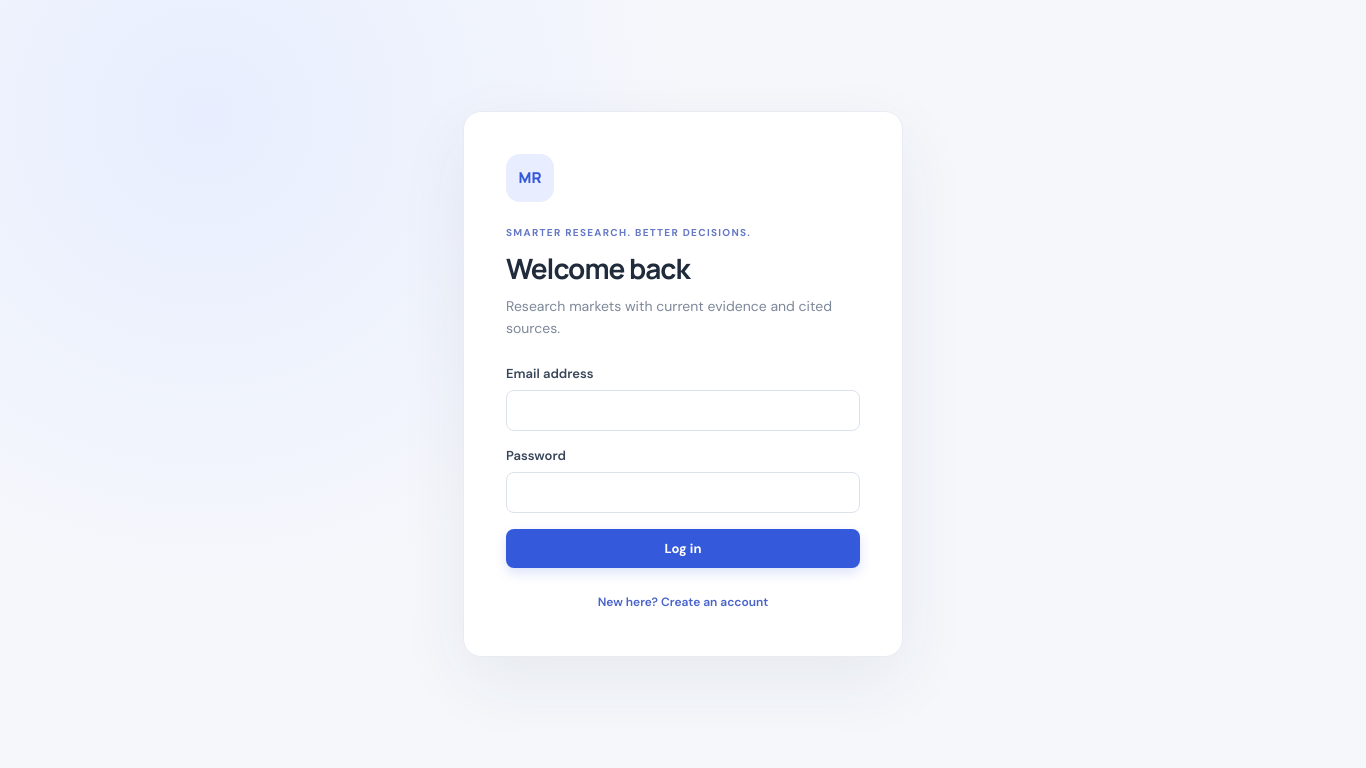
Test: authentication › submits login credentials and opens the dashboard
The image size is (1366, 768).
Expected: the heading "Welcome back" is shown, [506,249,690,287]
Type "test@example.com" into the field labelled "Email address" at (683, 411), box [506,390,860,431]
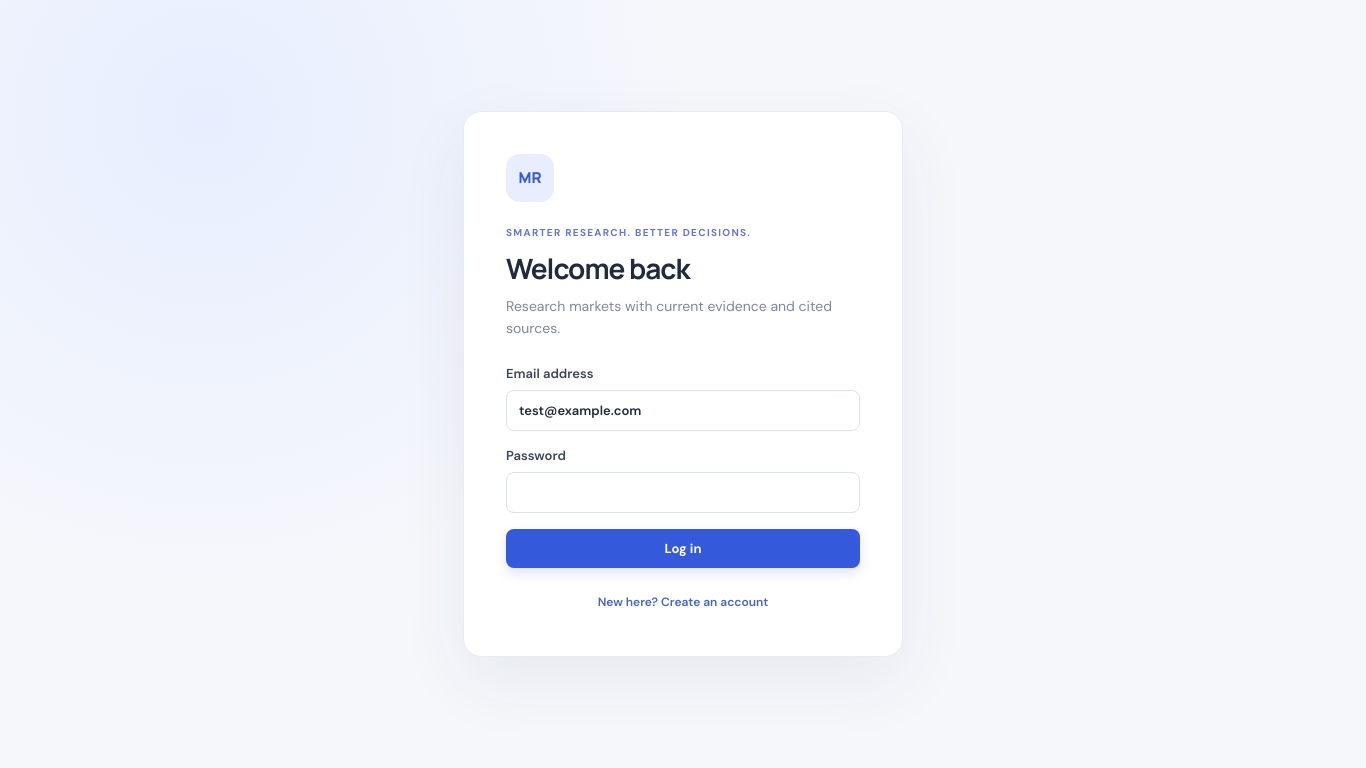
Type "a-secure-password" into the password field labelled "Password" at (683, 493), box [506,472,860,513]
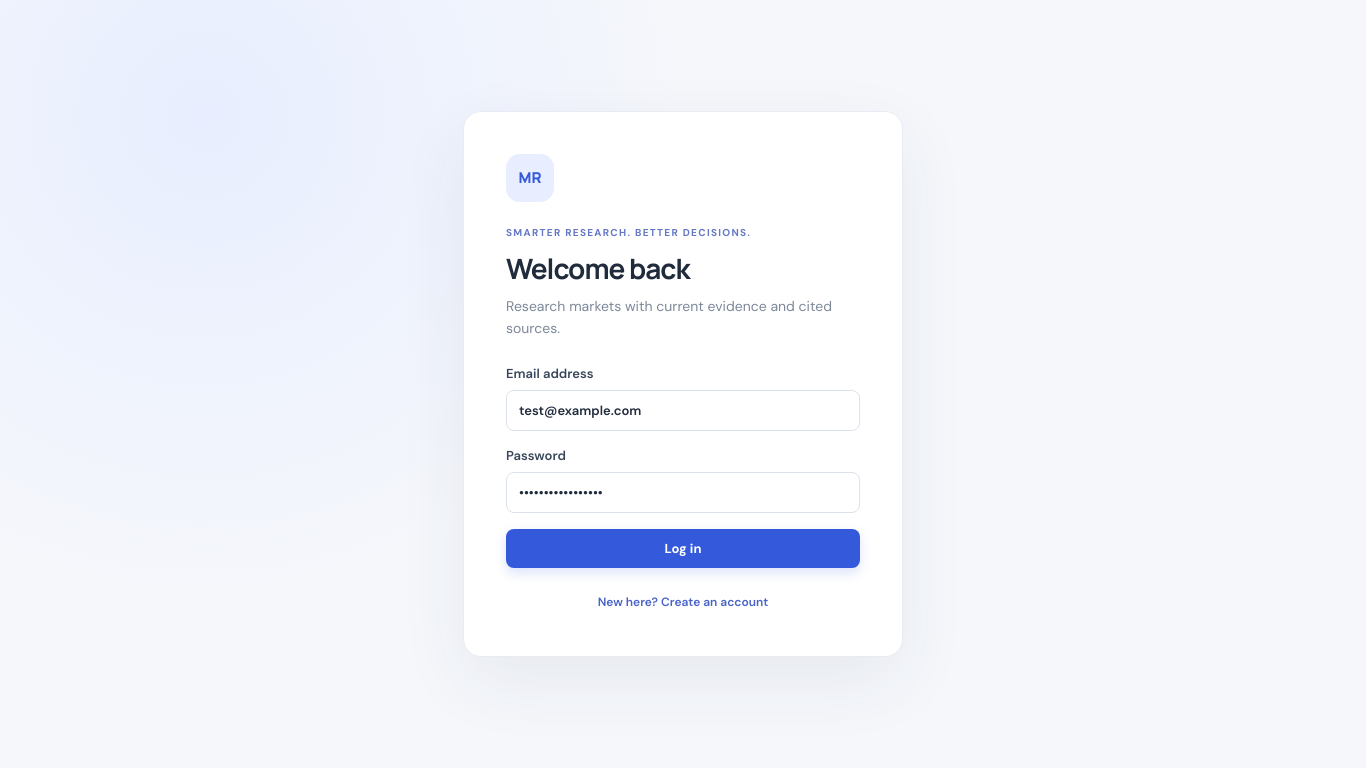
Click the button "Log in" at (683, 549), box [506,529,860,568]
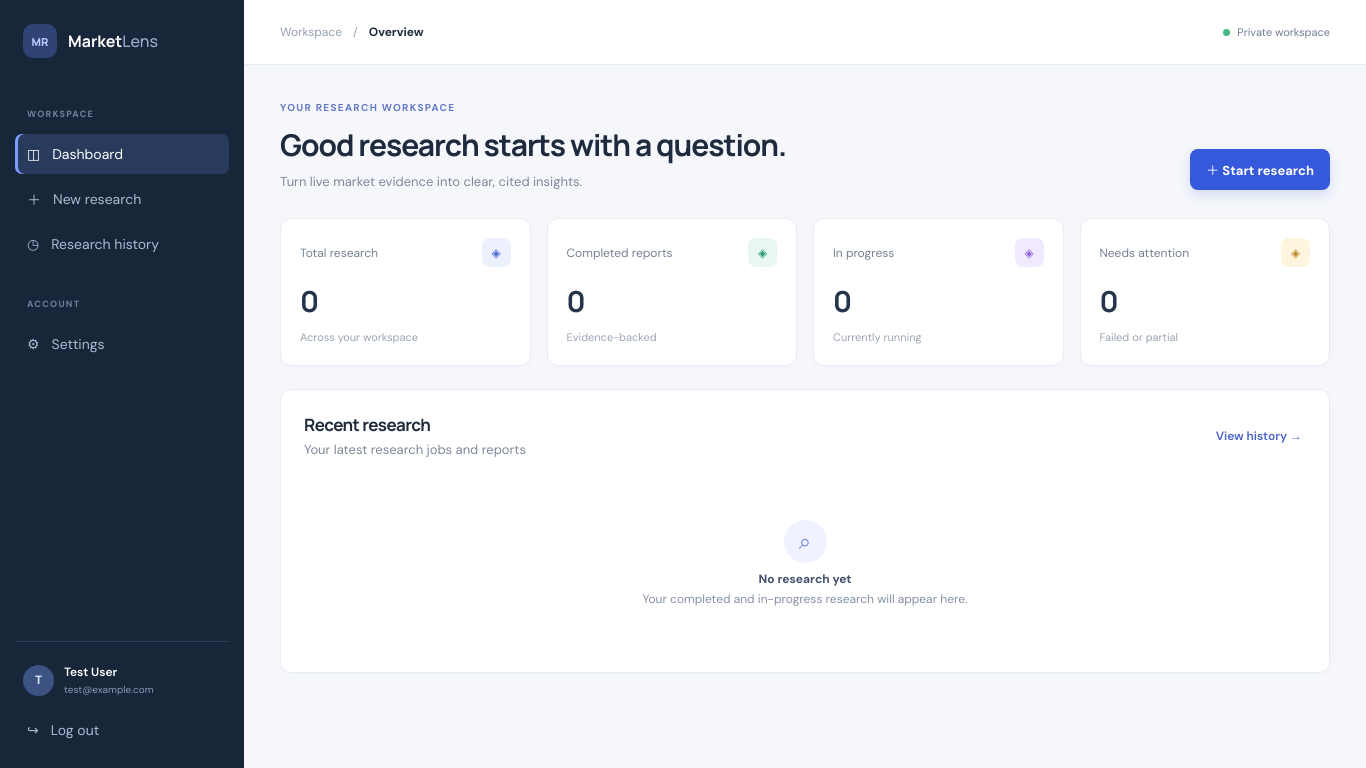
Expected: the heading "Good research starts with a question." is shown, [280,124,786,165]
